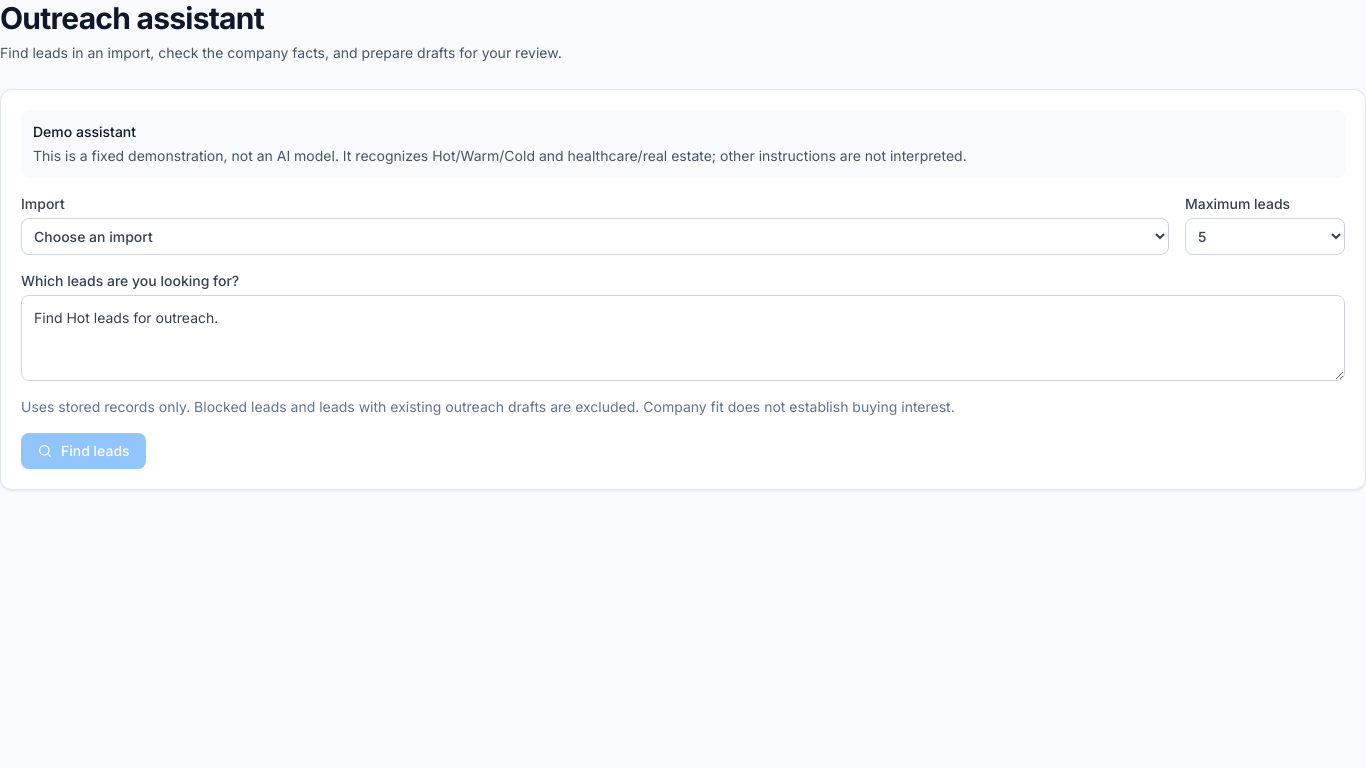
Scenario: Outreach assistant › polls until completion and can cancel remaining drafts
Select "Clinic import · 5 leads" in the dropdown labelled "Import" at coordinates (595, 236), box [21,218,1169,255]
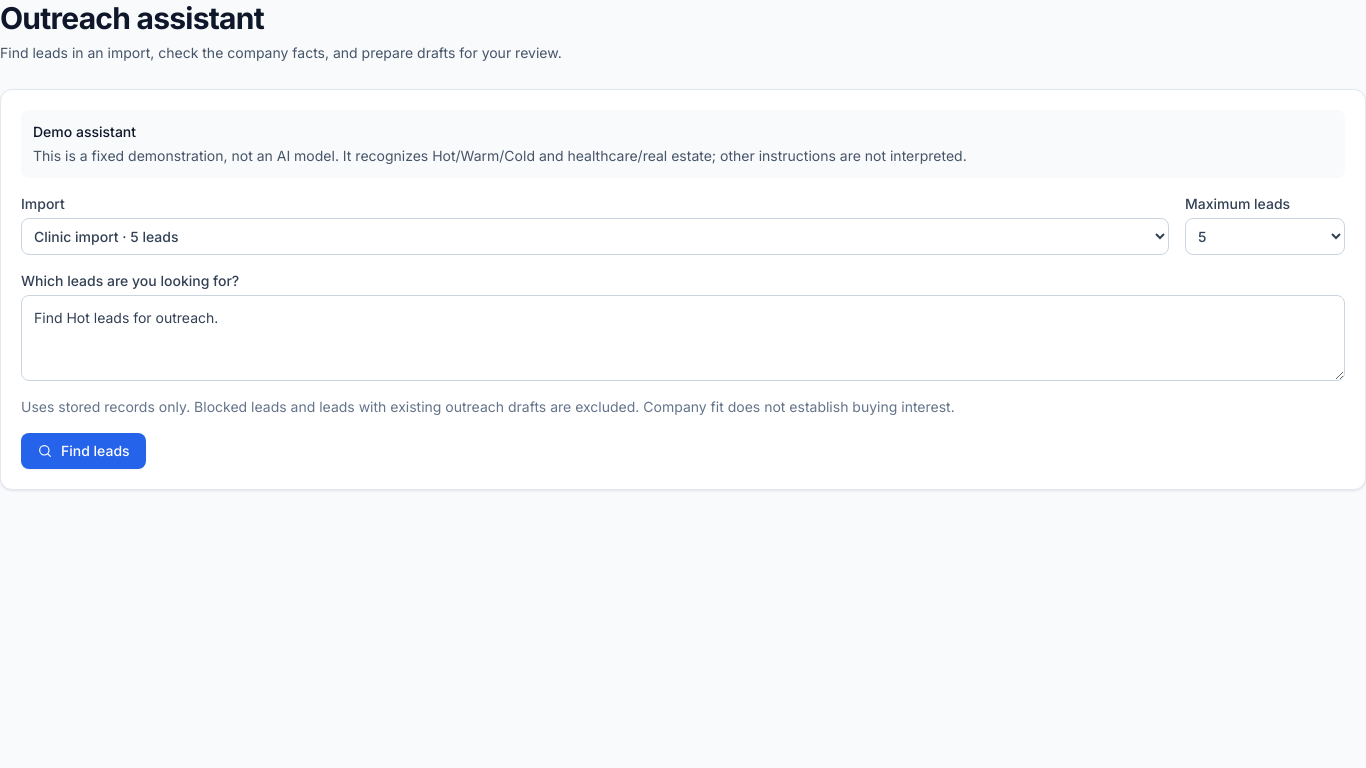
Click the button "Find leads" at coordinates (83, 451), box [21,433,146,469]
(page scrolled)
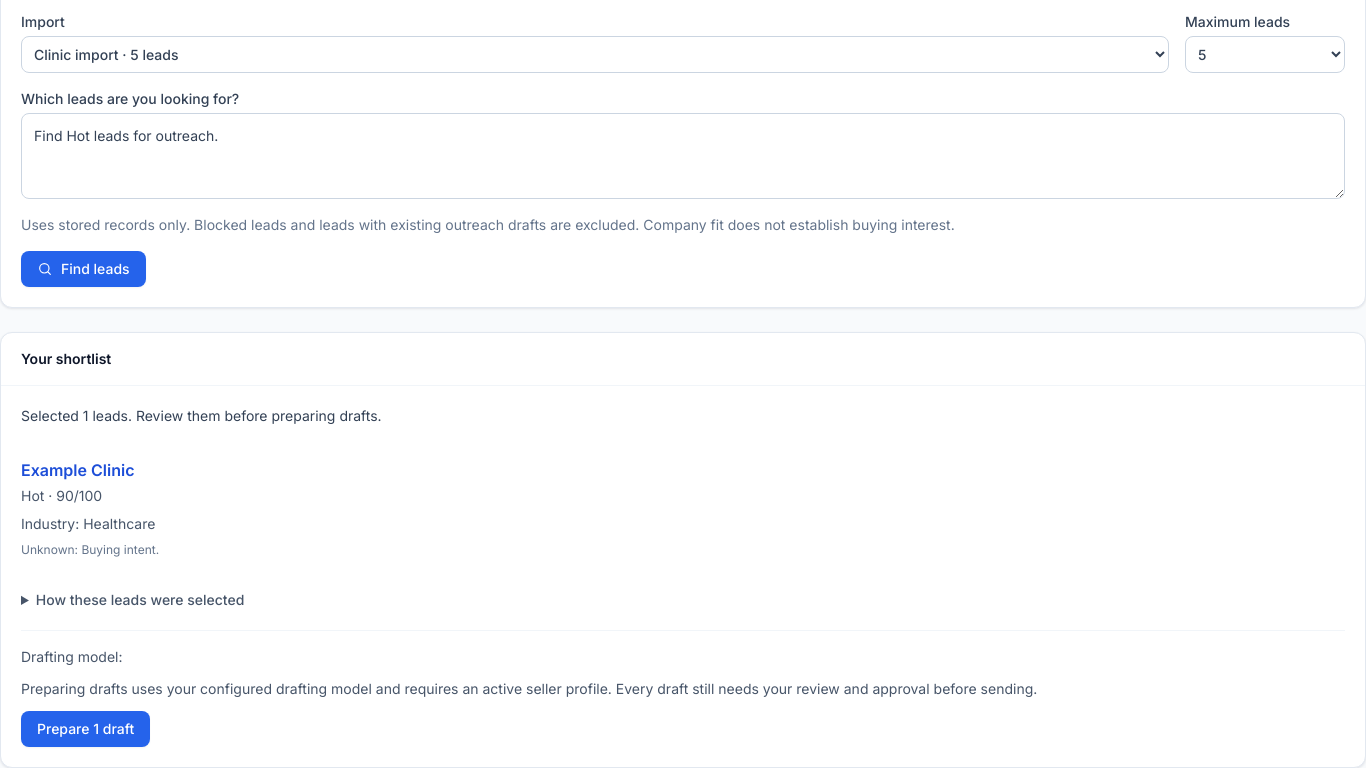
Click the button "Prepare 1 draft" at coordinates (86, 729), box [21,711,150,747]
(page scrolled)
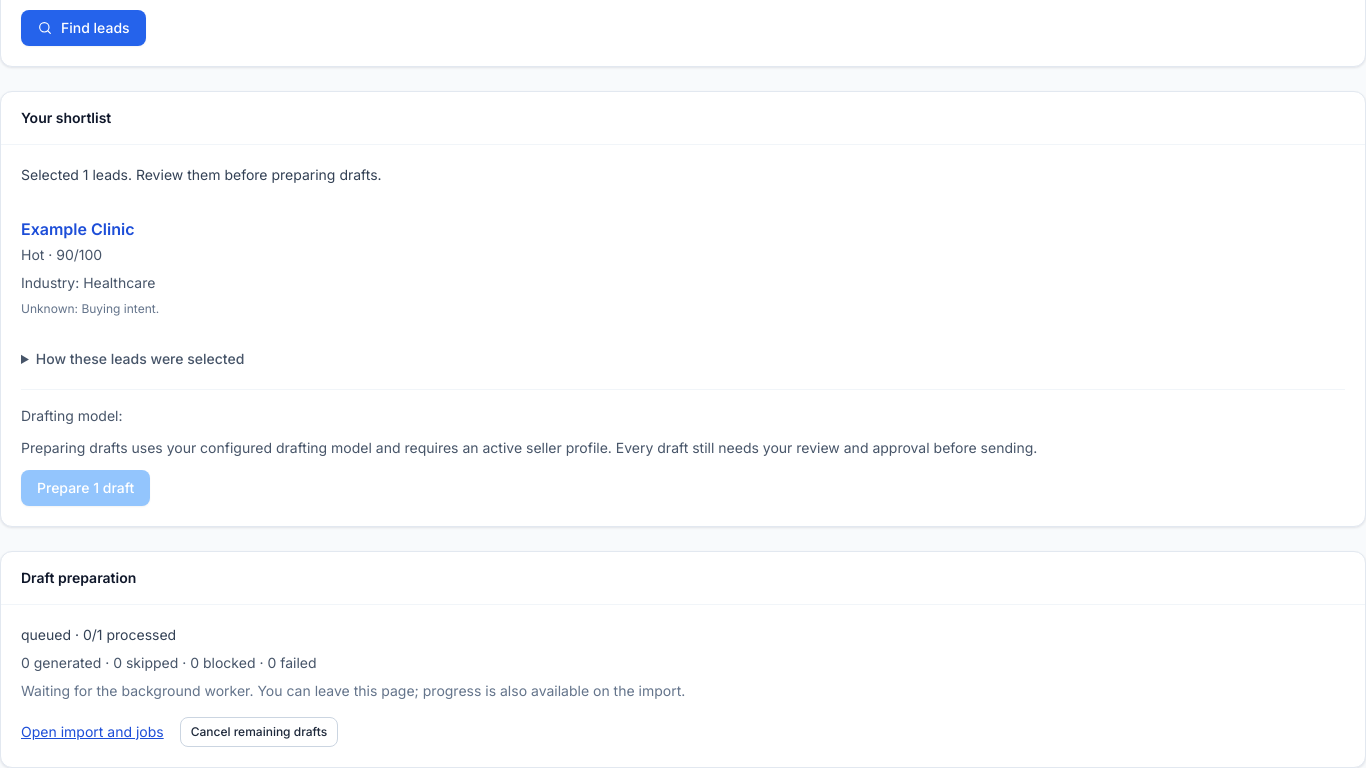
Click the button "Cancel remaining drafts" at coordinates (259, 732), box [180,717,338,747]
Wait 3000 ms
(page scrolled)
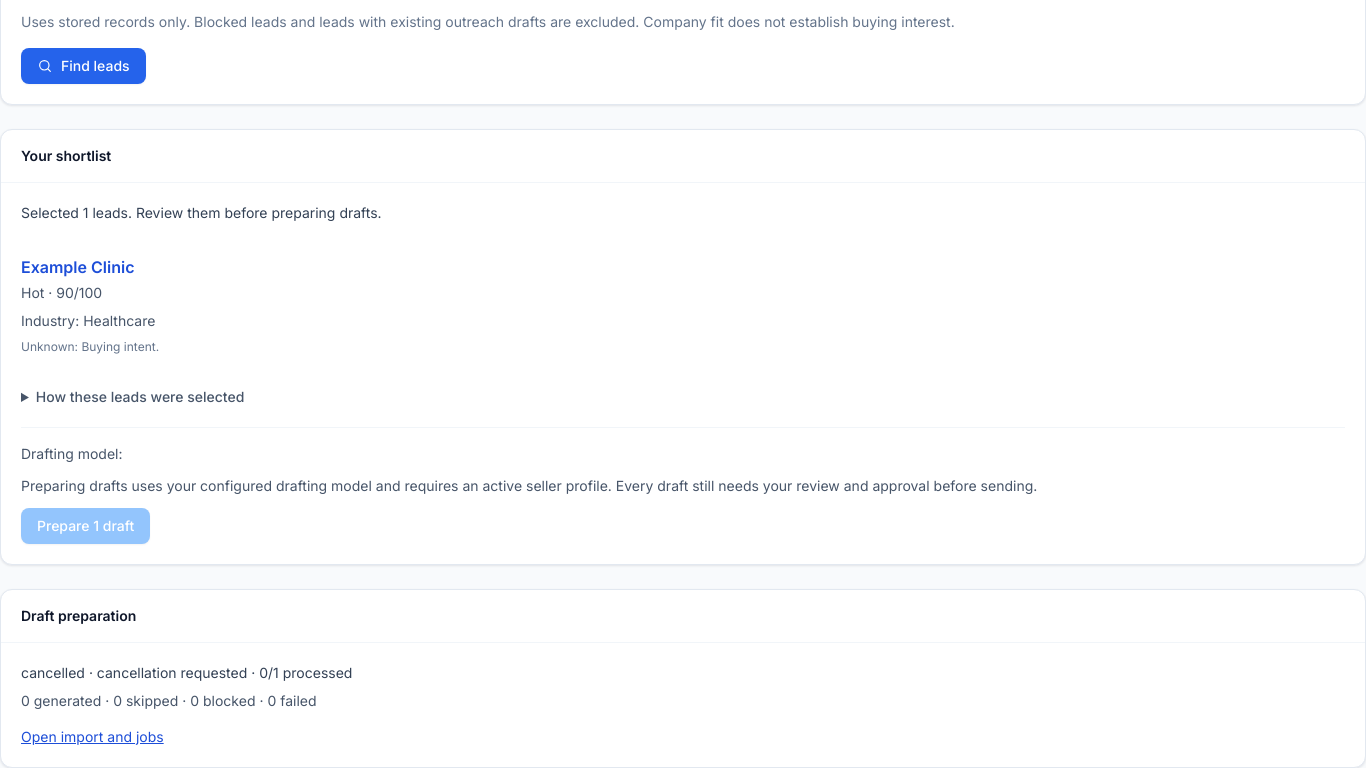
Expected: the text "cancelled · cancellation requested · 0/1 processed" is shown, [21,664,352,681]
